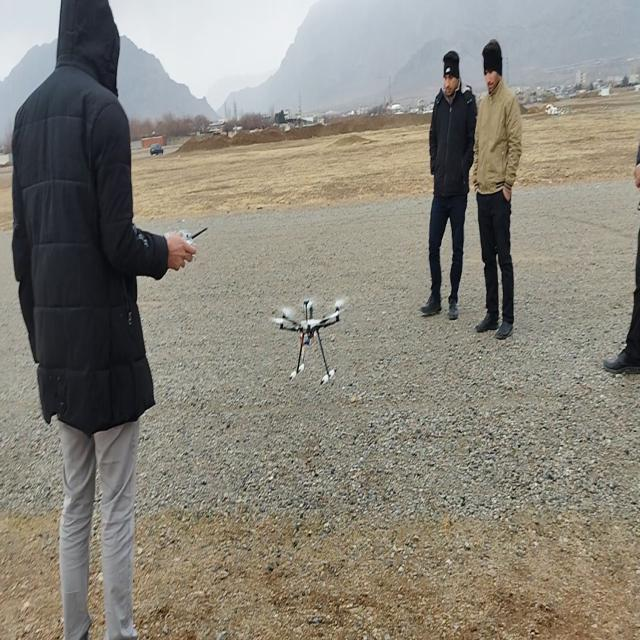drone: (267, 293, 348, 386)
